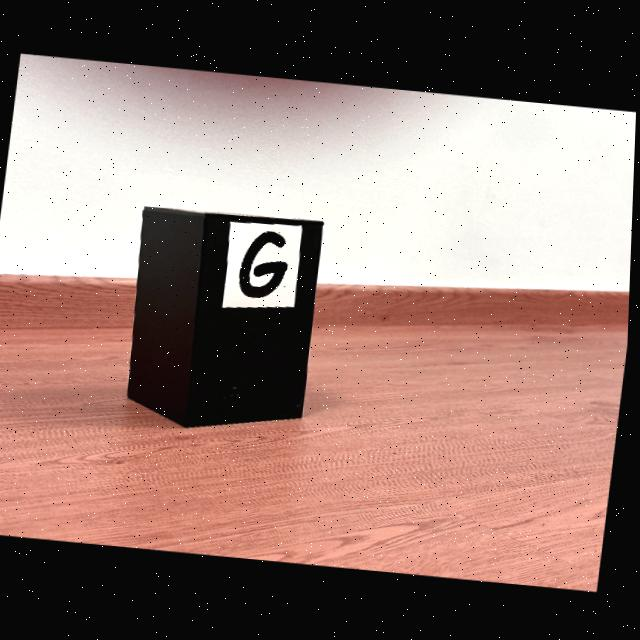G: (241, 230, 289, 297)
